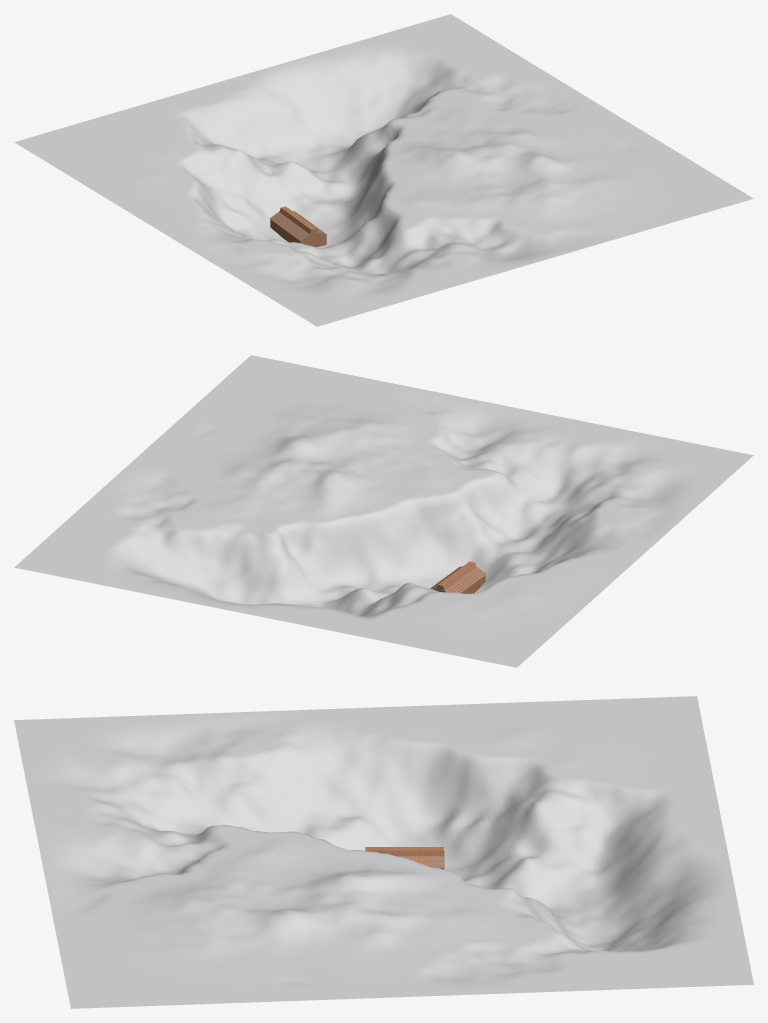
The model's file is game1.fbx.
The picture shows the model from 3 angles, top to bottom: view 1: azimuth 30°, elevation 25°; view 2: azimuth 150°, elevation 25°; view 3: azimuth 270°, elevation 25°; orthographic projection. The views are drawn at different scales.
Parts seen in each view (by area): view 1: Landscape.001, Cube; view 2: Landscape.001, Cube, Cube.003; view 3: Landscape.001, Cube.
Part boxes in pixels (x1,y1,x2,y2): Landscape.001: (14, 14, 753, 326); Cube: (270, 206, 326, 247); Landscape.001: (14, 355, 753, 667); Cube: (434, 561, 485, 593); Cube.003: (430, 567, 485, 593); Landscape.001: (14, 696, 753, 1008); Cube: (365, 847, 443, 869).
Size of the model in its own units: 44579 by 7254 by 44579.
Materials: 3 (2 with a texture image).
